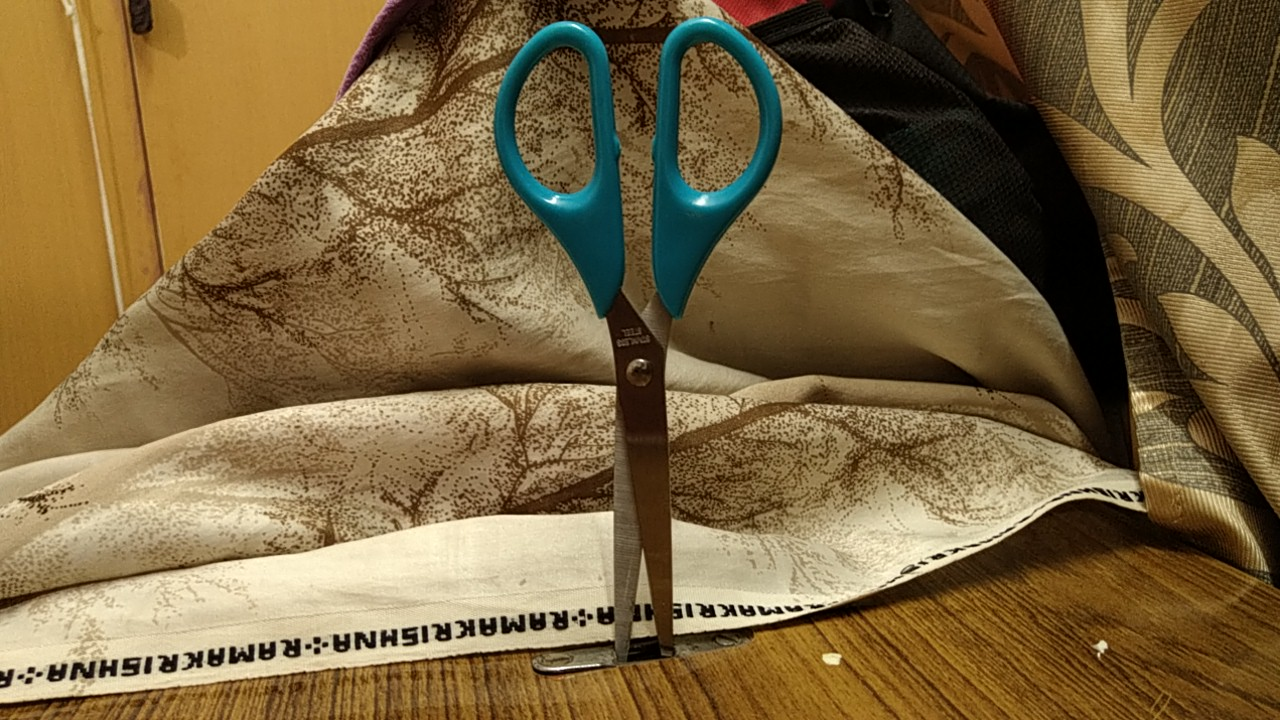scissor: (478, 13, 802, 692)
